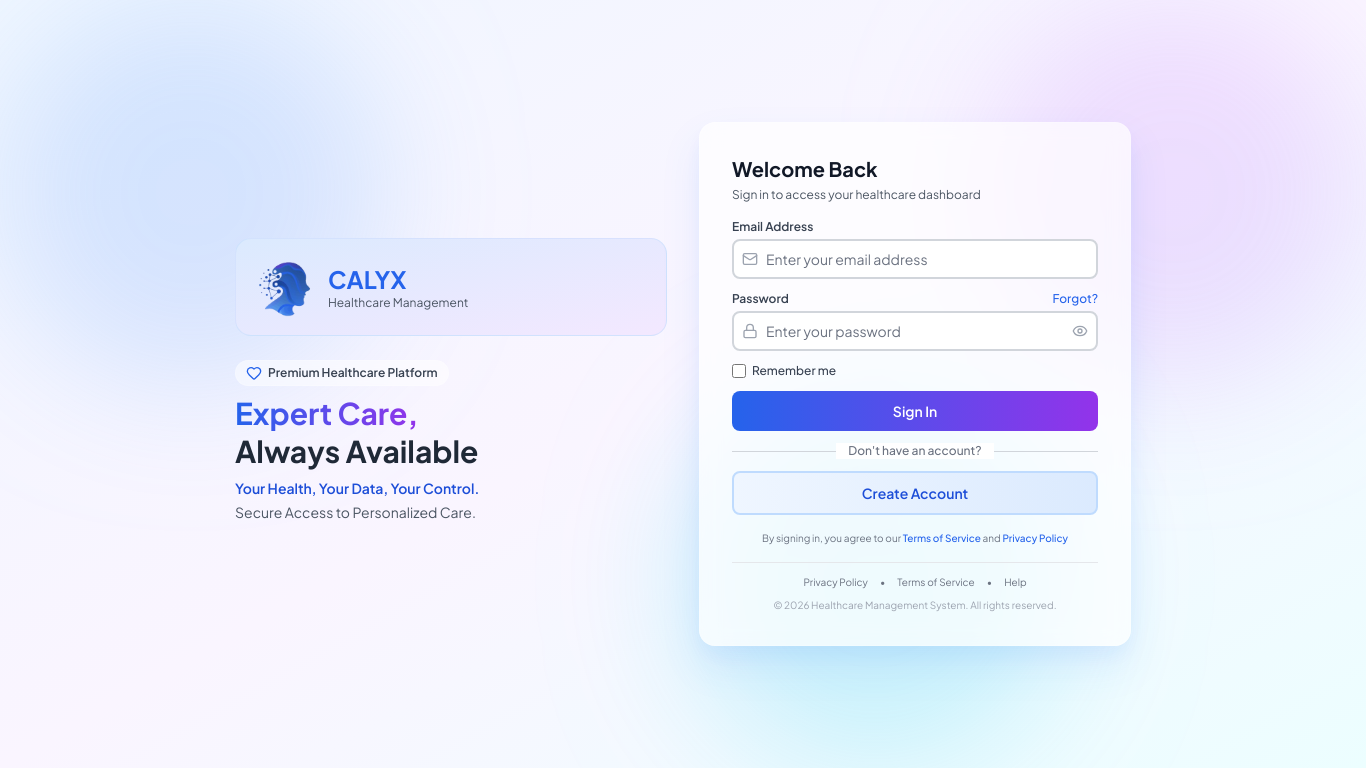
Test case: Login Page › shows validation error for short password
In the password field with placeholder "Enter your password": (915, 331) [732, 311, 1098, 351], type "12345"
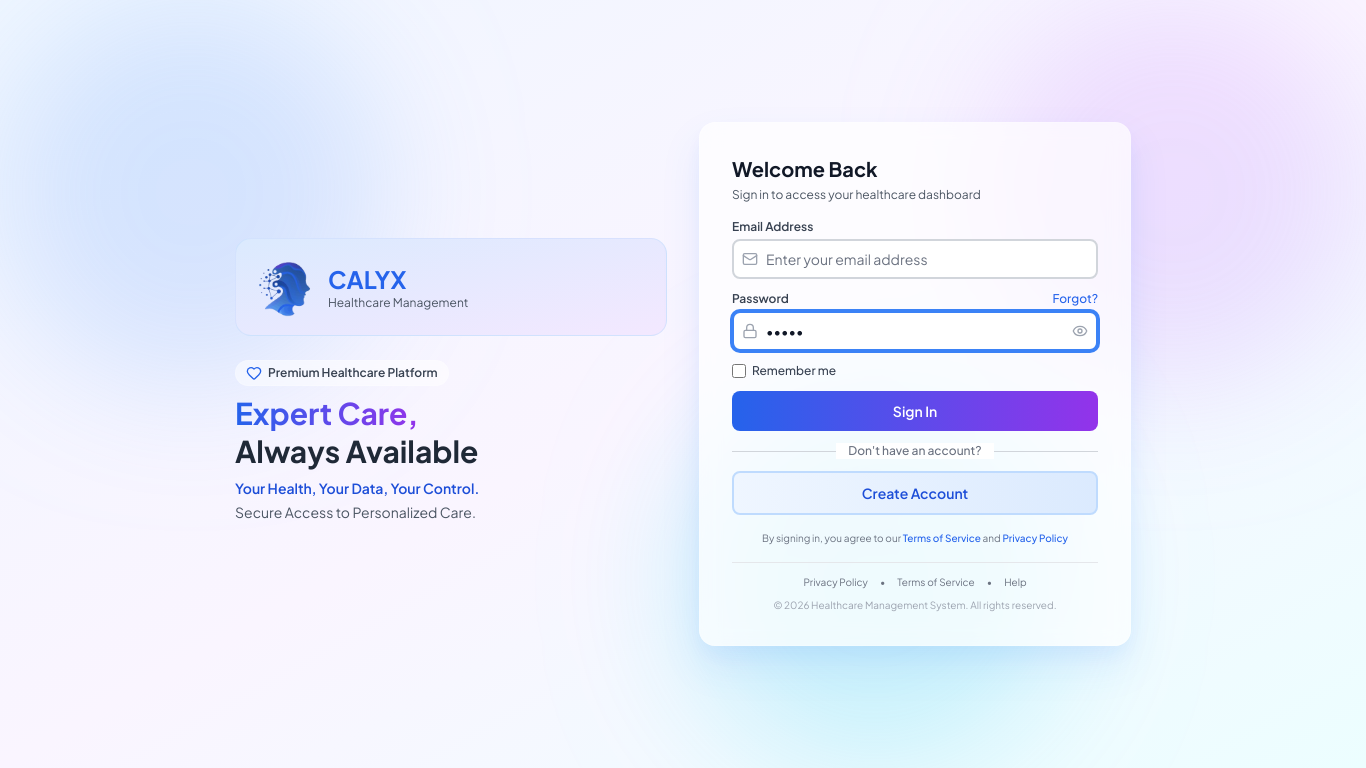
Leave the password field with placeholder "Enter your password", box [732, 311, 1098, 351]
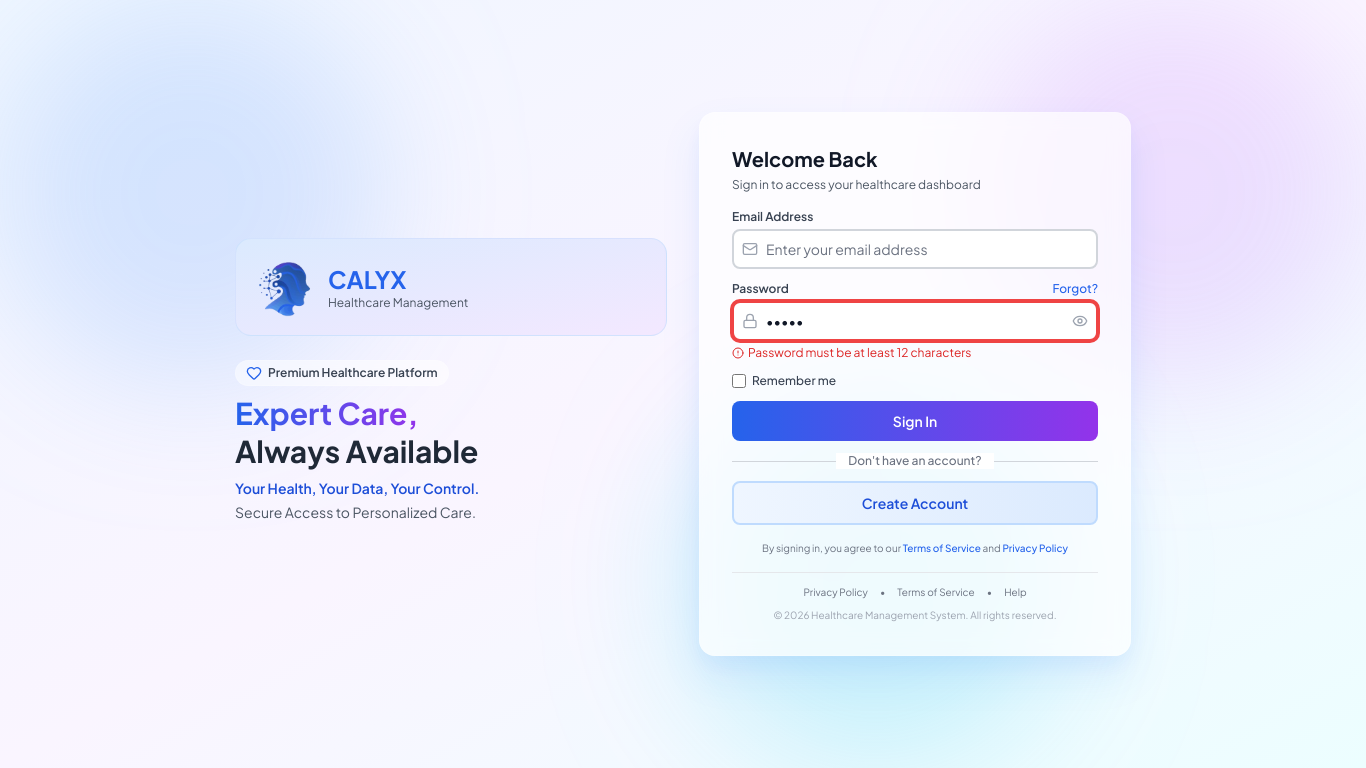
Expected: the text "Password must be at least 12 characters" is shown, [732, 345, 971, 360]
